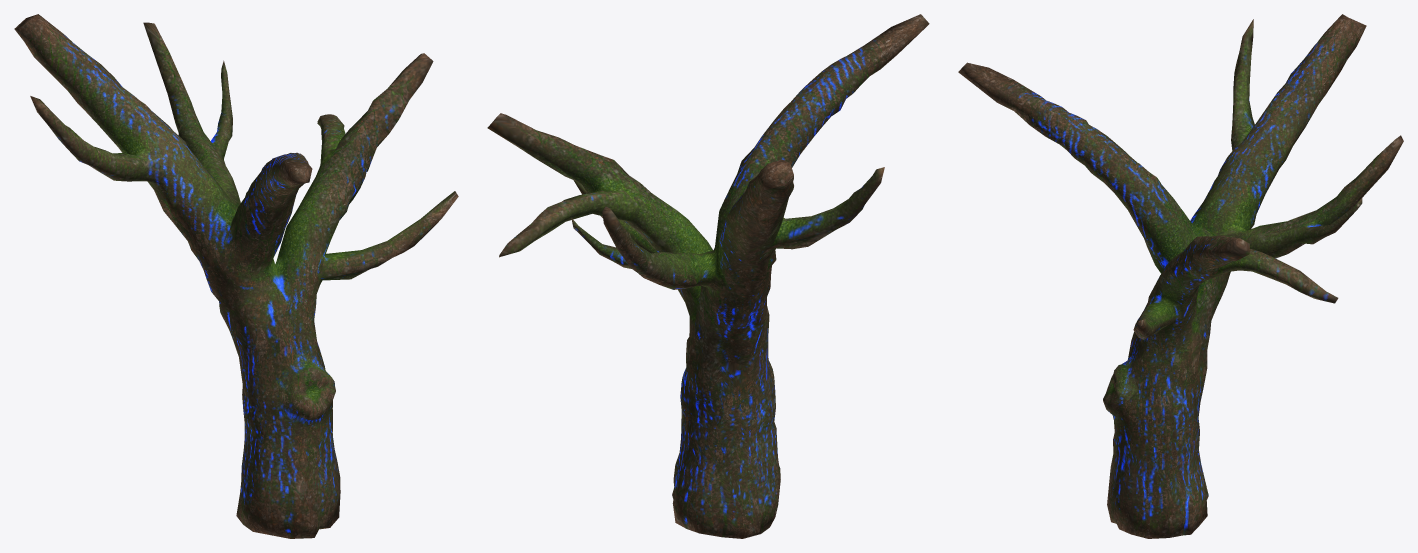
The model's file is whispering_willow_trees.glb.
3 renders of one model, left to right at view 1: azimuth 30°, elevation 25°; view 2: azimuth 150°, elevation 25°; view 3: azimuth 270°, elevation 25°, orthographic. The views are drawn at different scales.
Visible parts, largest first — view 1: WhisperingWillowTrees; view 2: WhisperingWillowTrees; view 3: WhisperingWillowTrees.
Boxes of the visible parts, <box> form: WhisperingWillowTrees: <box>14,14,458,538</box>; WhisperingWillowTrees: <box>487,14,929,538</box>; WhisperingWillowTrees: <box>958,14,1403,538</box>.
Size of the model in its own units: 3.89 by 4.36 by 4.06.
Materials: 1 (1 with a texture image).
